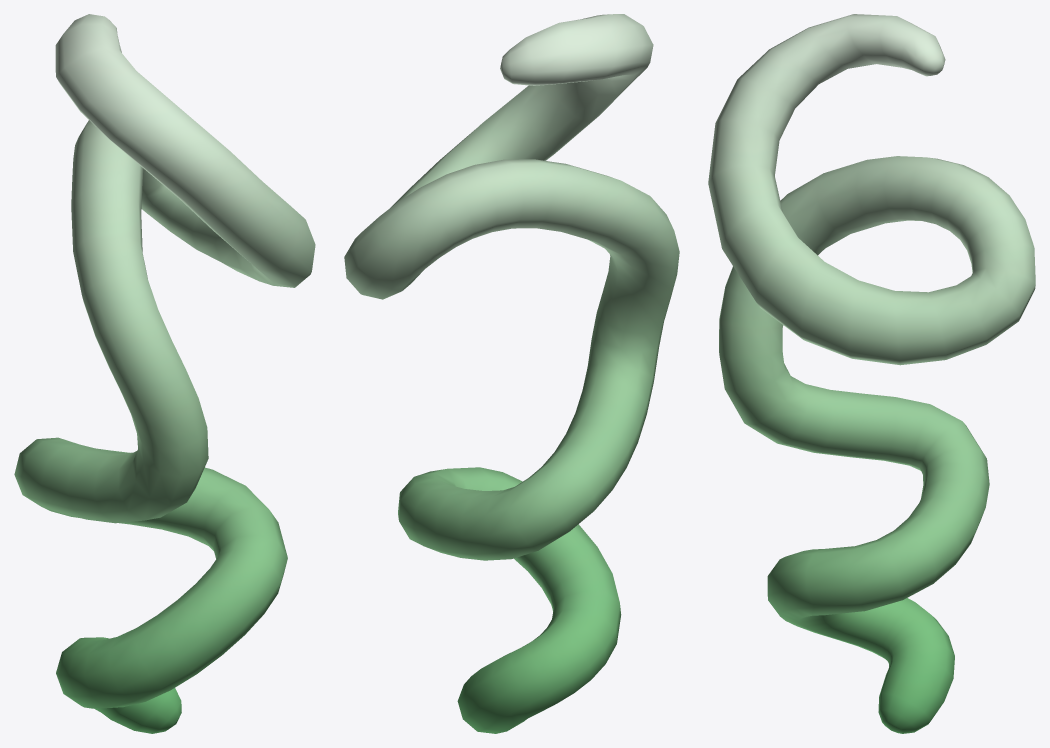
File: capsule_contents_002.glb
3 renders of one model, left to right at view 1: azimuth 30°, elevation 25°; view 2: azimuth 150°, elevation 25°; view 3: azimuth 270°, elevation 25°, orthographic. The views are drawn at different scales.
Parts seen in each view (by area): view 1: Сapsule_contents_002; view 2: Сapsule_contents_002; view 3: Сapsule_contents_002.
Boxes of the visible parts, bbox=[...] form: Сapsule_contents_002: bbox=[14, 14, 315, 733]; Сapsule_contents_002: bbox=[344, 14, 679, 733]; Сapsule_contents_002: bbox=[708, 14, 1035, 733].
Size of the model in its own units: 0.4287 by 1.24 by 0.5406.
Materials: 1 (1 with a texture image).
